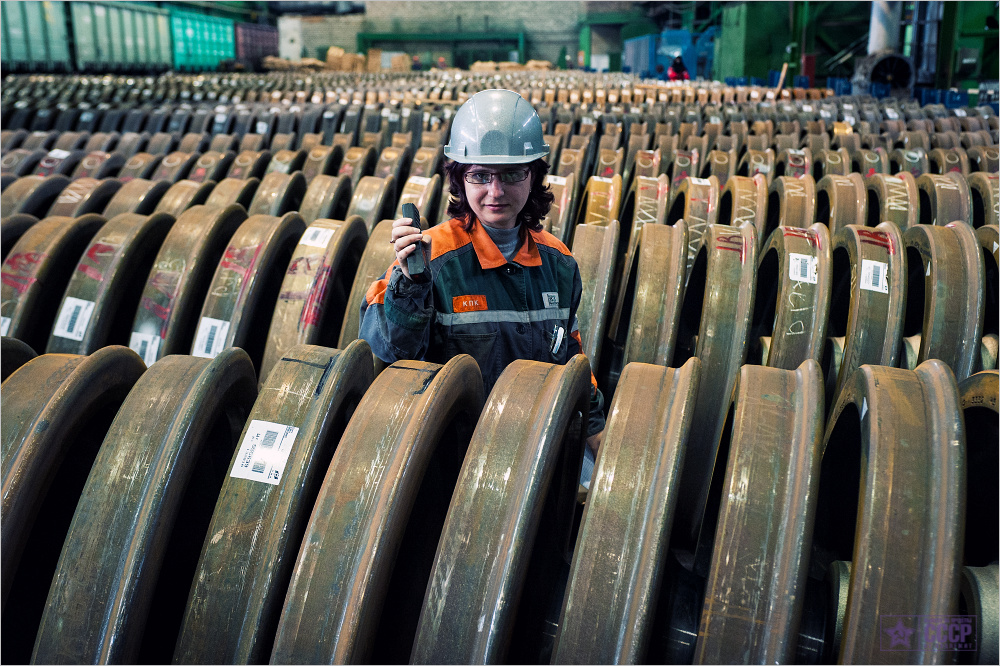person: (358, 88, 606, 461)
